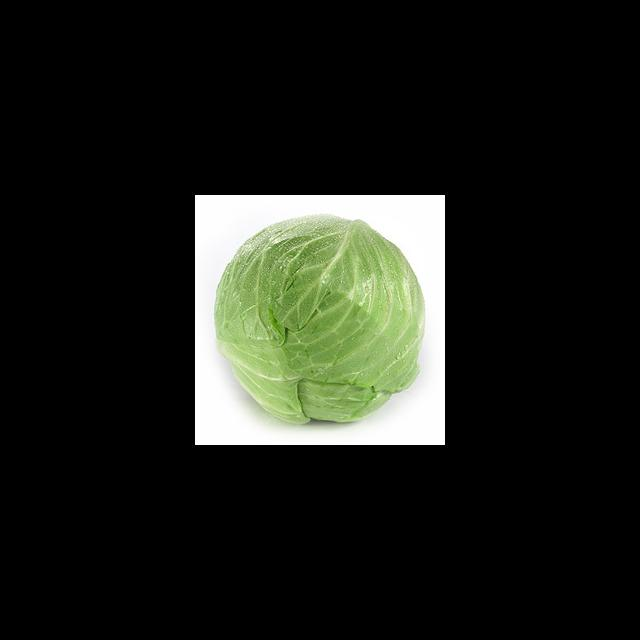cabbage: (213, 212, 427, 425)
